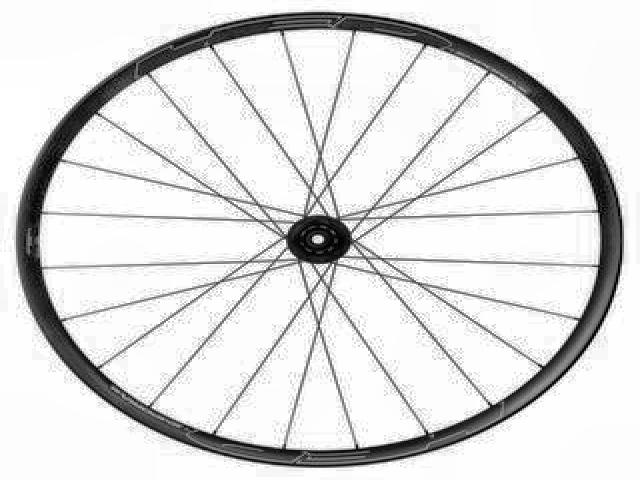wheel: (12, 7, 629, 471)
